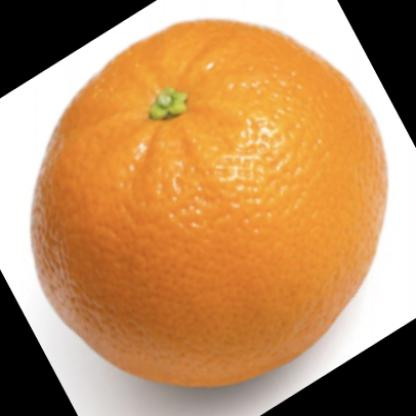orange: (24, 20, 395, 391)
